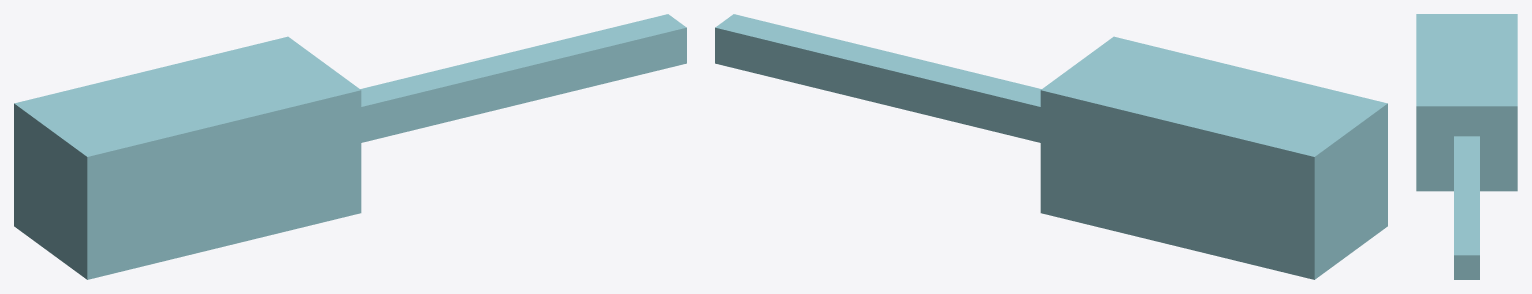
Rendered from cuboid_screwdriver_v2002.obj.
3 views of the same model, side by side, from view 1: azimuth 30°, elevation 25°; view 2: azimuth 150°, elevation 25°; view 3: azimuth 270°, elevation 25° (orthographic). The views are drawn at different scales.
Bounding box in the file's own units: 0.1956 × 0.0367 × 0.0396.
1 material, 1 textured.
